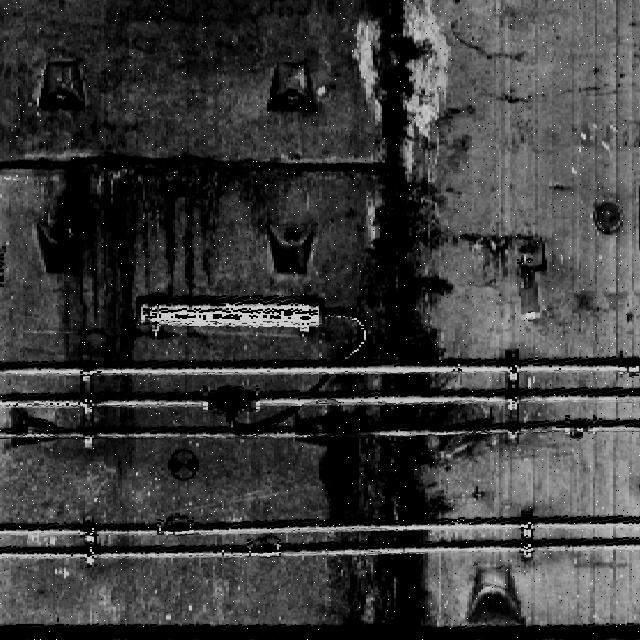leakage: (319, 0, 450, 628), (34, 139, 287, 368)
